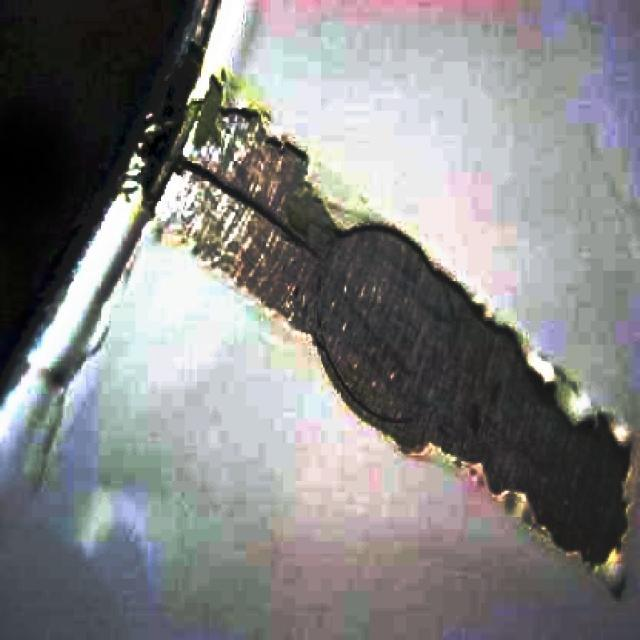crack: (181, 155, 257, 206), (255, 207, 315, 255)
